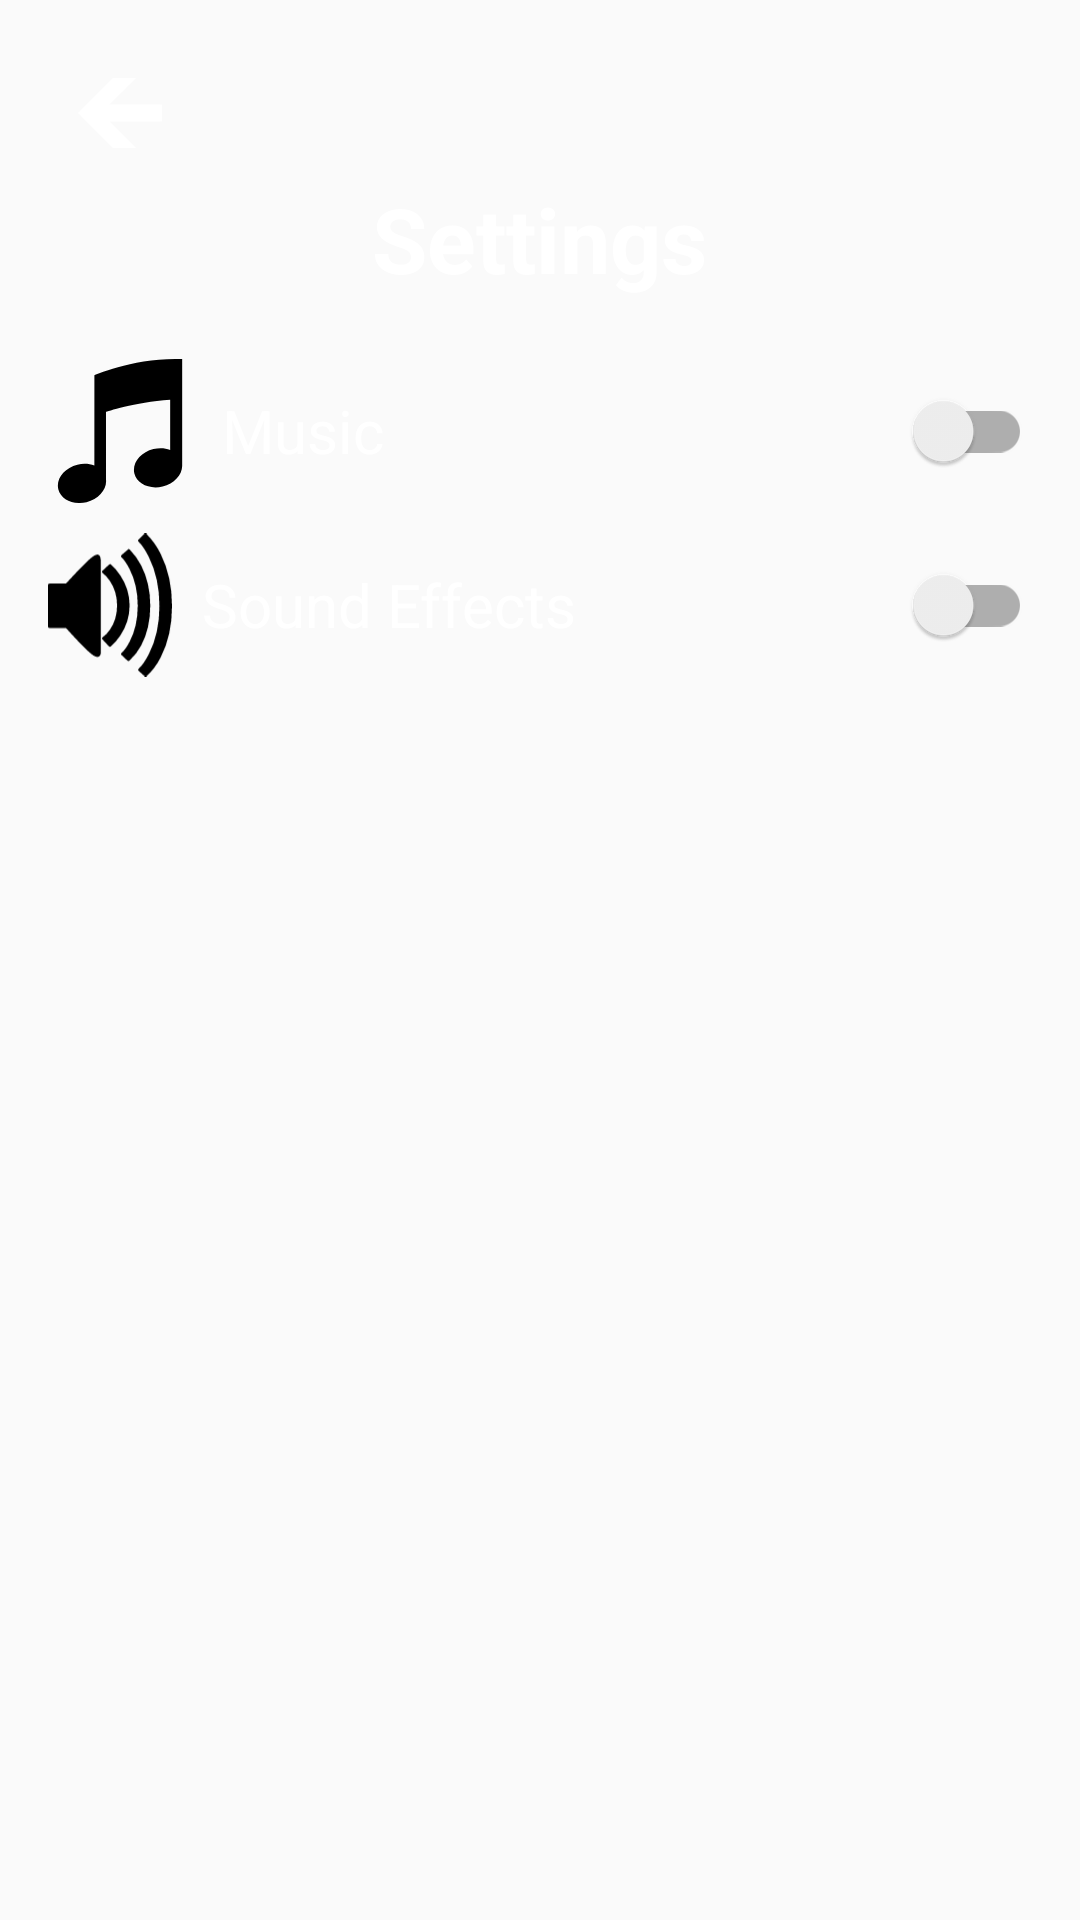

Screen size 1080x1920. Icon name, then its center in pixels as (x=x, y=y):
speaker: (x=110, y=605)
